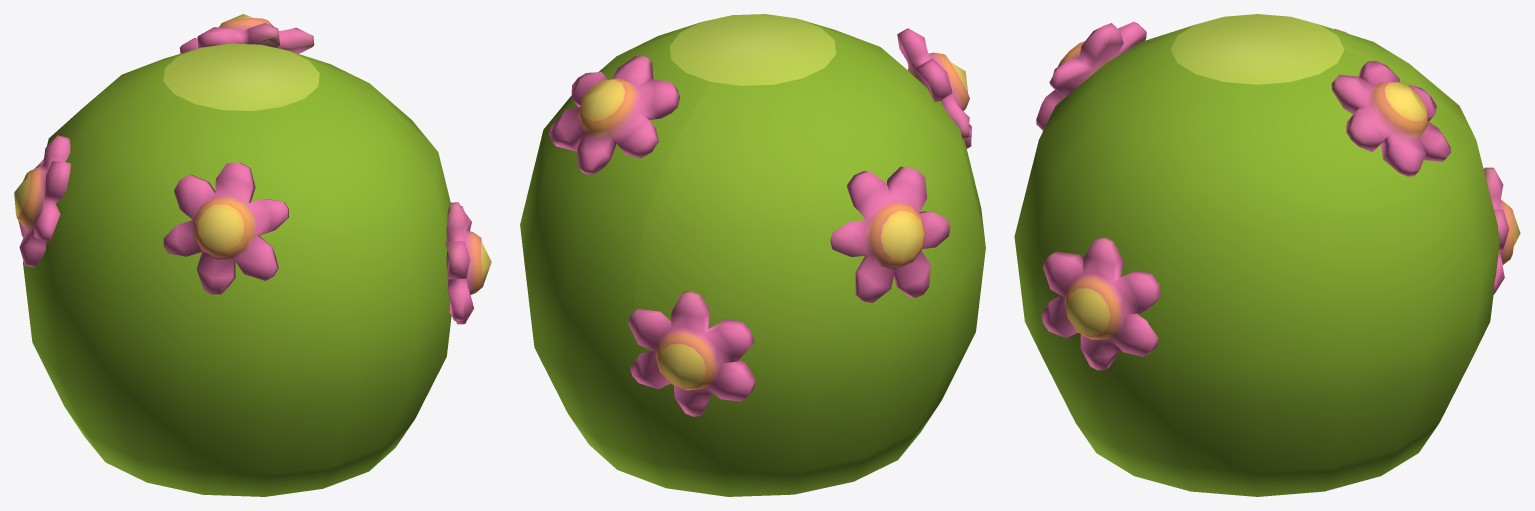
File: Cactus3.fbx
The picture shows the model from 3 angles, left to right: view 1: azimuth 30°, elevation 25°; view 2: azimuth 150°, elevation 25°; view 3: azimuth 270°, elevation 25°; orthographic projection. The views are drawn at different scales.
Parts seen in each view (by area): view 1: Cylinder, Cylinder.002, Cylinder.003, Cylinder.001, Cylinder.004; view 2: Cylinder, Cylinder.003, Cylinder.005, Cylinder.004, Cylinder.002; view 3: Cylinder, Cylinder.001, Cylinder.004, Cylinder.002, Cylinder.005.
Part boxes in pixels (<box>): Cylinder: <box>23,43,451,496</box>; Cylinder.002: <box>163,162,288,294</box>; Cylinder.003: <box>14,135,70,267</box>; Cylinder.001: <box>445,202,491,324</box>; Cylinder.004: <box>179,14,314,53</box>; Cylinder: <box>520,14,985,496</box>; Cylinder.003: <box>830,166,950,302</box>; Cylinder.005: <box>628,290,755,416</box>; Cylinder.004: <box>549,55,680,174</box>; Cylinder.002: <box>897,28,971,148</box>; Cylinder: <box>1014,14,1499,496</box>; Cylinder.001: <box>1041,237,1160,370</box>; Cylinder.004: <box>1331,61,1450,176</box>; Cylinder.002: <box>1036,21,1146,130</box>; Cylinder.005: <box>1483,167,1520,294</box>.
Size of the model in its own units: 200 by 179 by 214.
Materials: 6 (6 with a texture image).
